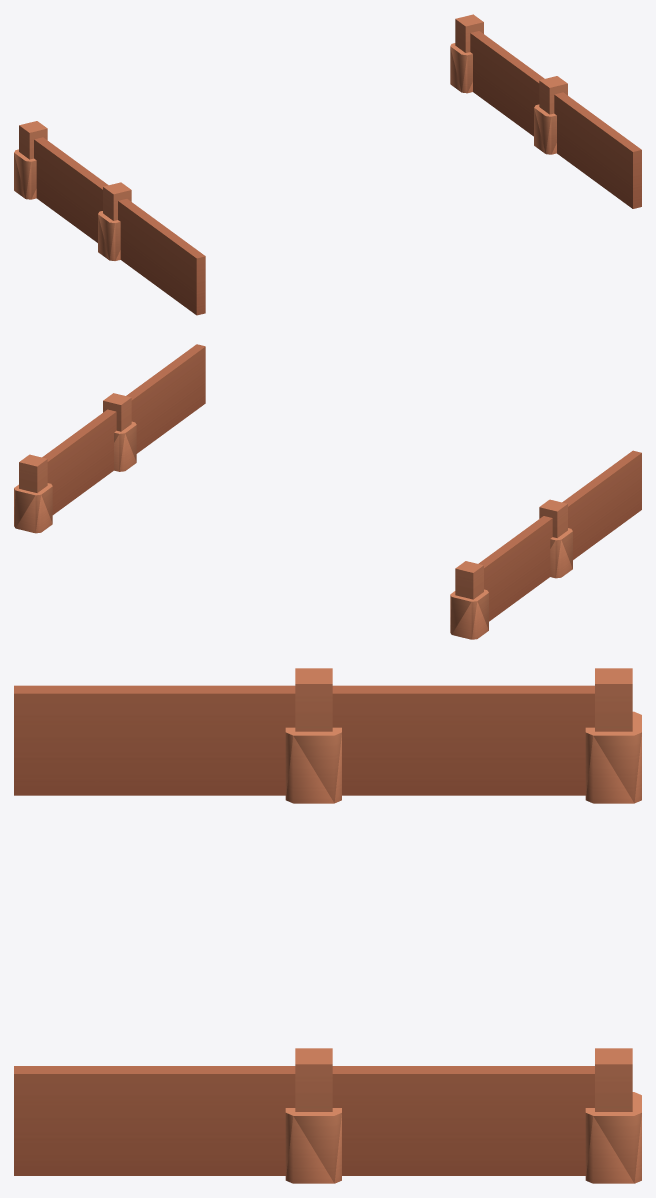
Rendered from ks_fence_low.fbx.
The picture shows the model from 3 angles, top to bottom: view 1: azimuth 30°, elevation 25°; view 2: azimuth 150°, elevation 25°; view 3: azimuth 270°, elevation 25°; orthographic projection. The views are drawn at different scales.
Parts seen in each view (by area): view 1: ks_fence_low; view 2: ks_fence_low; view 3: ks_fence_low.
Boxes of the visible parts, x1,y1,x2,y2 form: ks_fence_low: [14, 14, 641, 315]; ks_fence_low: [14, 344, 641, 639]; ks_fence_low: [14, 668, 641, 1183].
Size of the model in its own units: 10.84 by 1.45 by 7.12.
